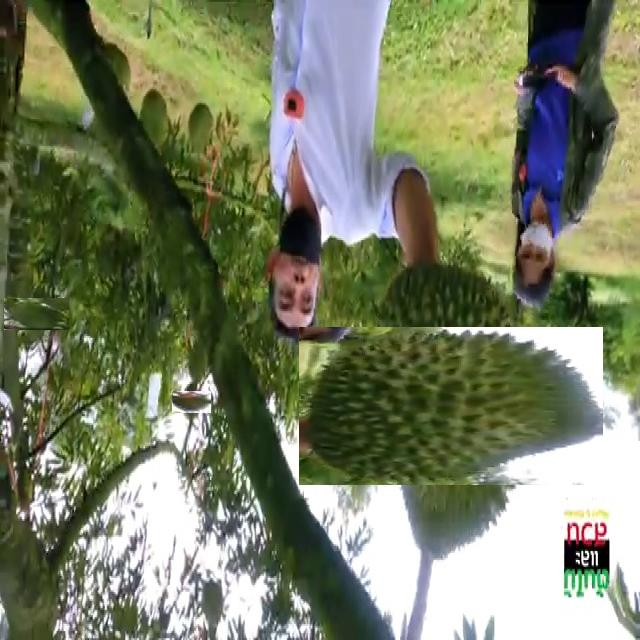durian: (335, 290, 566, 522), (136, 83, 172, 155), (13, 289, 61, 339), (186, 100, 214, 153), (176, 387, 207, 418)
